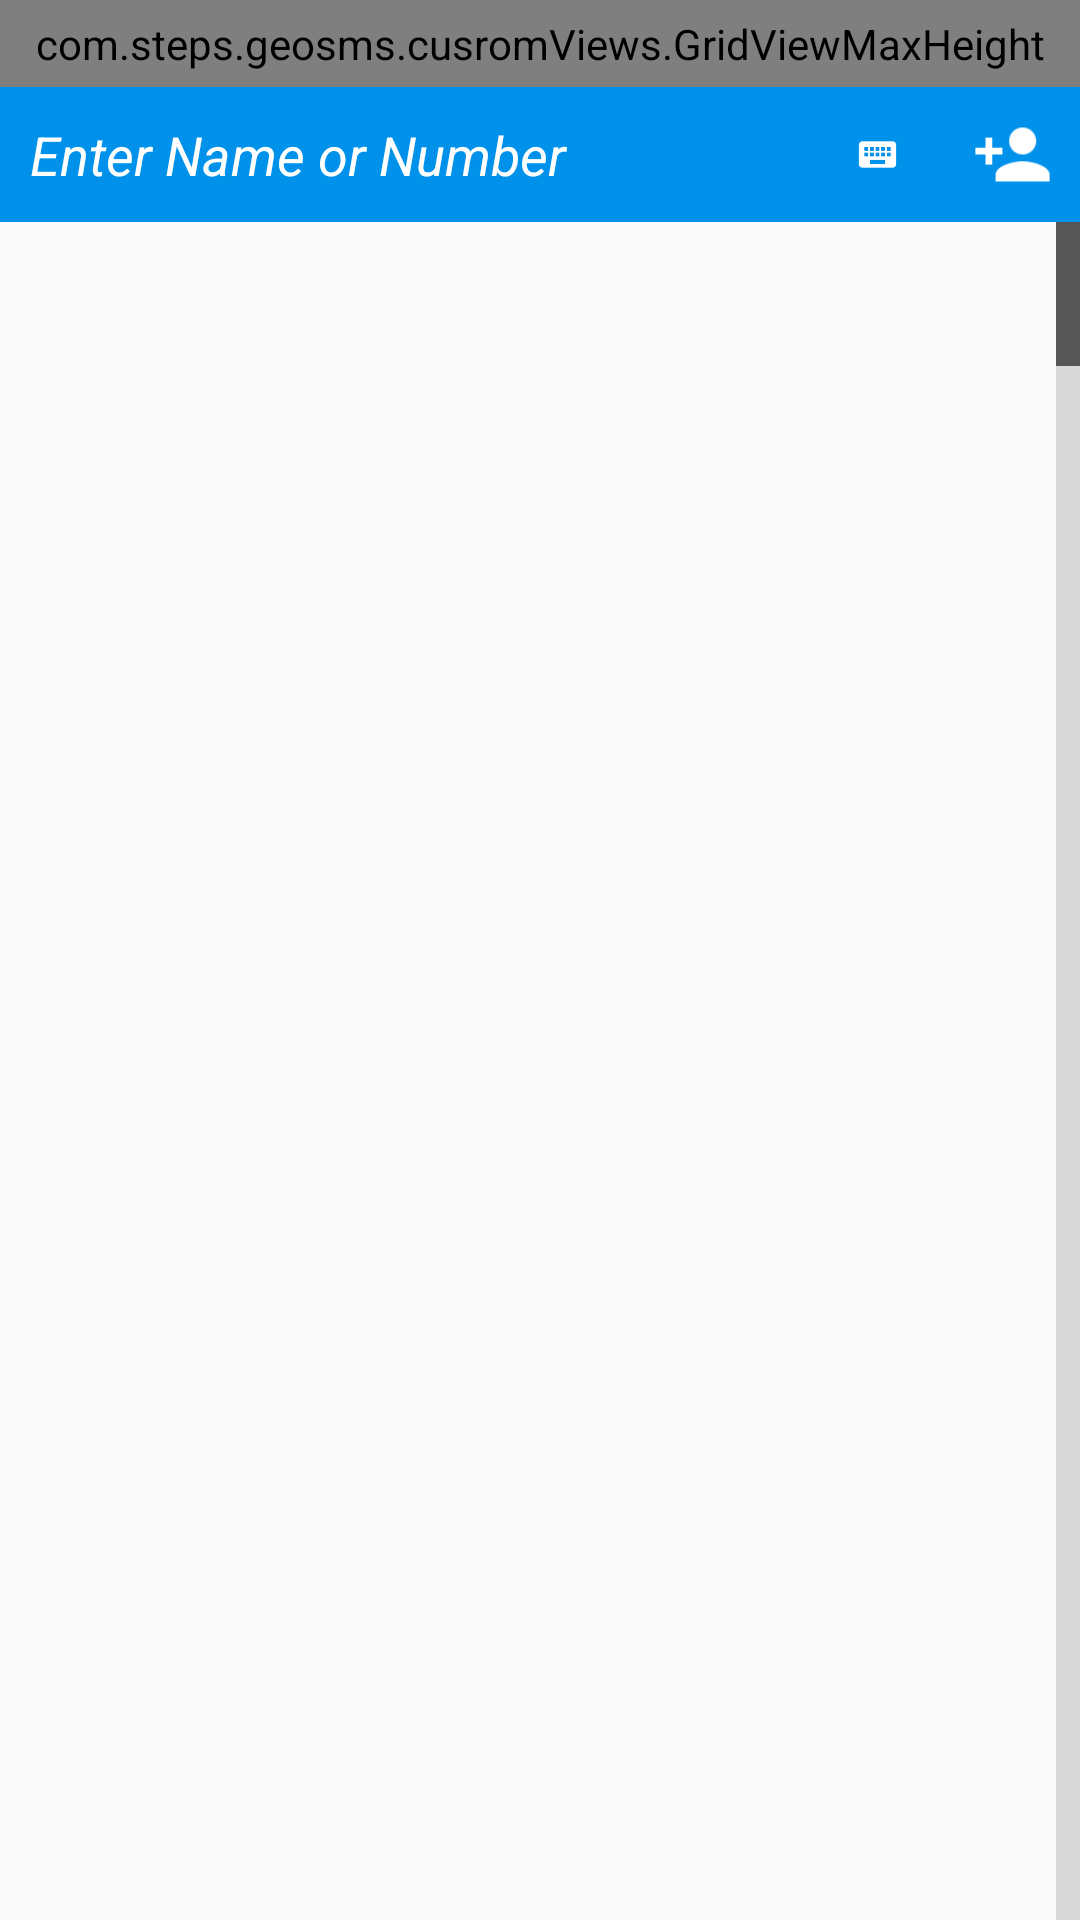

Locate icon controls on the screen. Image size 1080px x 1920px, boxes as bbox(x1, y1, x2, y2).
Add contact from contact picker: bbox(975, 127, 1050, 182)
keyboard mode toggle: bbox(858, 141, 897, 168)
